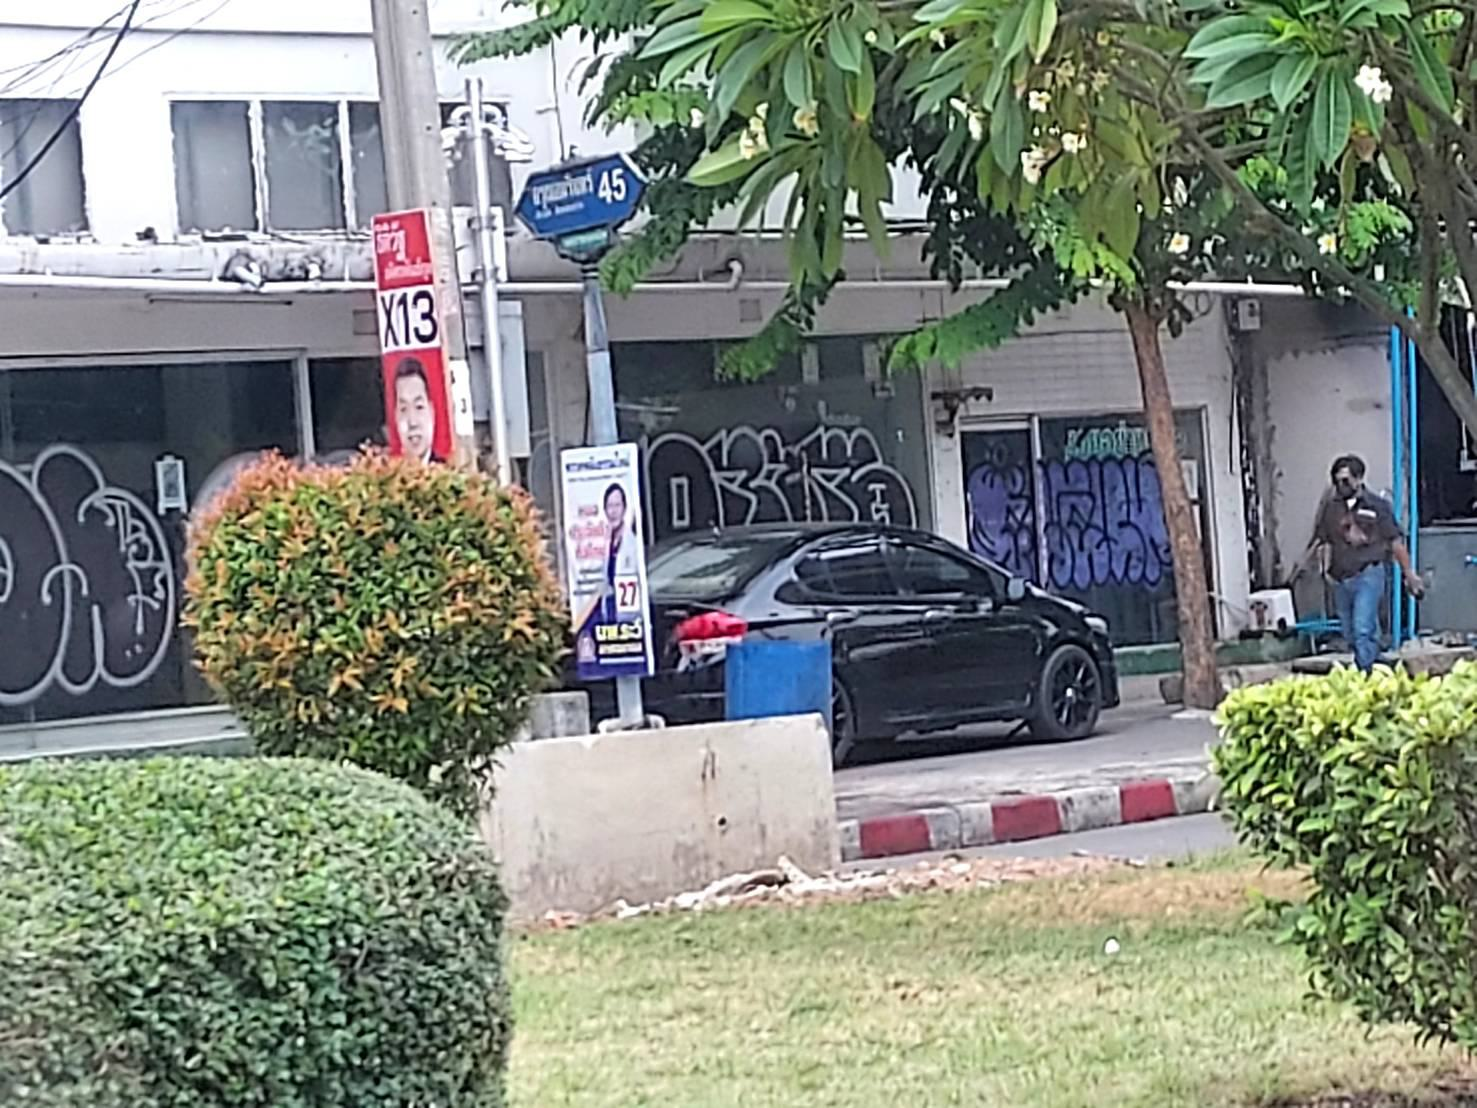Banner: (561, 442, 653, 681), (368, 212, 452, 459)
